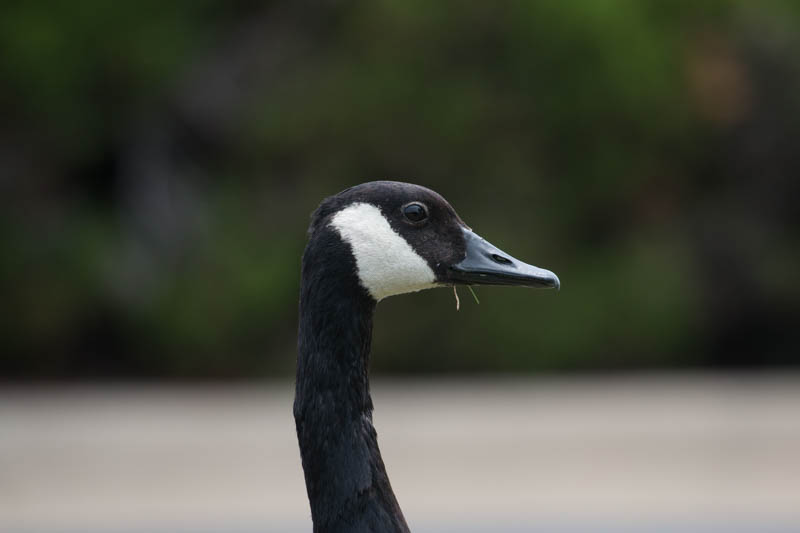goose-head: (304, 180, 560, 306)
